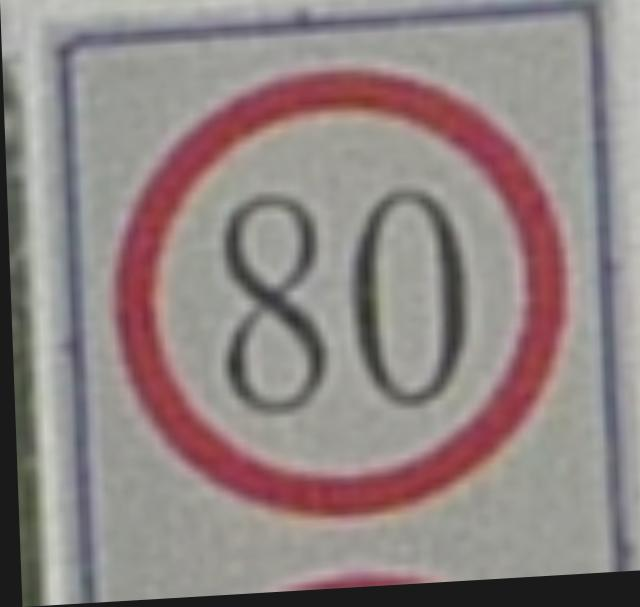limit80: (82, 42, 588, 544)
